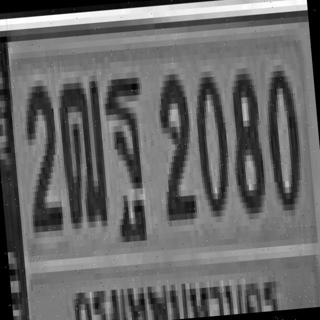A16: (100, 72, 149, 220)
A18: (54, 70, 107, 224)
N00: (260, 64, 302, 206), (190, 64, 230, 212)
N02: (152, 68, 195, 215), (19, 79, 61, 227)
N08: (224, 67, 264, 209)
